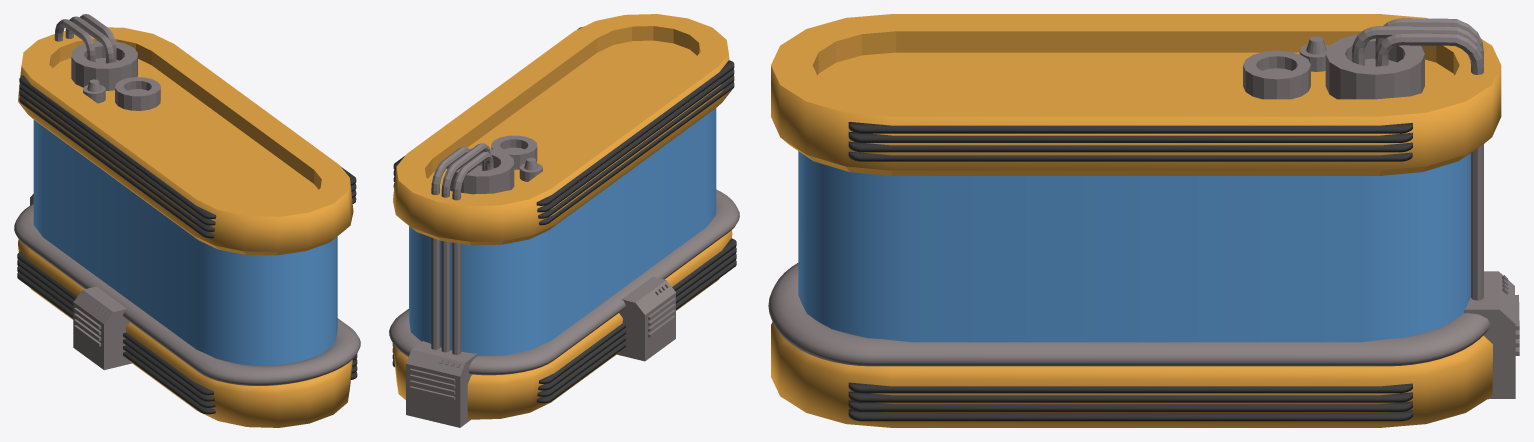
Rendered from ArmazemAgua.fbx.
3 renders of one model, left to right at view 1: azimuth 30°, elevation 25°; view 2: azimuth 150°, elevation 25°; view 3: azimuth 270°, elevation 25°, orthographic. The views are drawn at different scales.
Parts seen in each view (by area): view 1: ArmazemAgua; view 2: ArmazemAgua; view 3: ArmazemAgua.
Part boxes in pixels (x1,y1,x2,y2): ArmazemAgua: [14, 14, 360, 427]; ArmazemAgua: [389, 14, 739, 427]; ArmazemAgua: [768, 14, 1519, 427].
Size of the model in its own units: 64.29 by 83.11 by 160.
